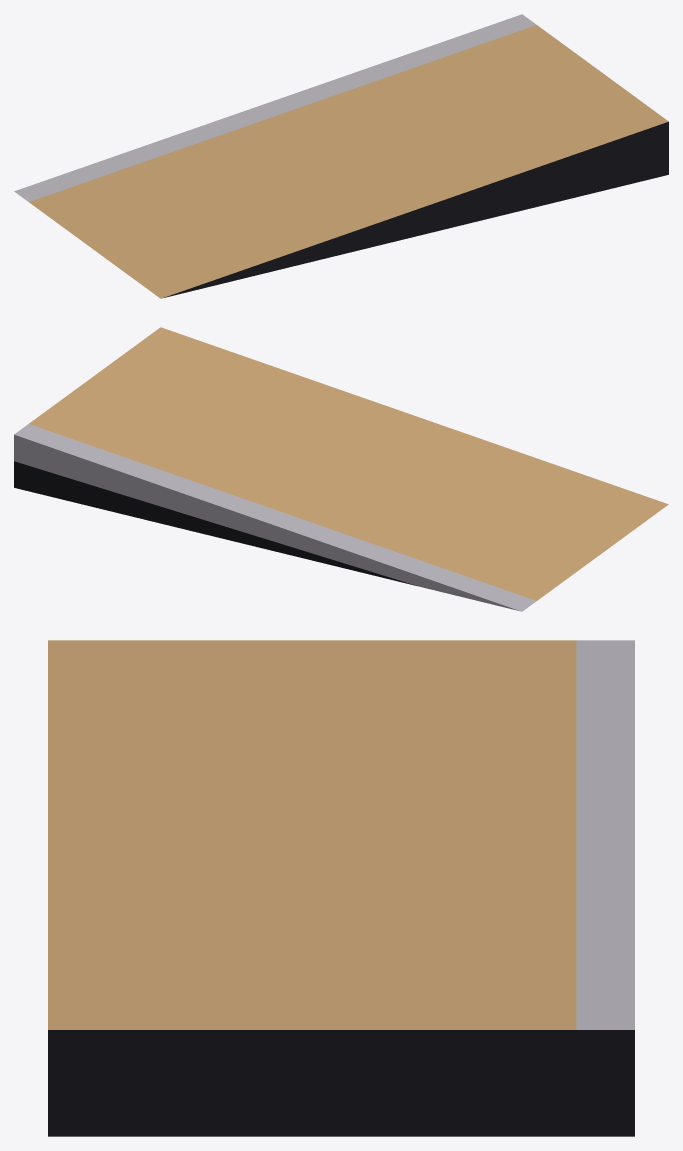
File: Ramp_Half_1_Left.fbx
3 views of the same model, one above another, from view 1: azimuth 30°, elevation 25°; view 2: azimuth 150°, elevation 25°; view 3: azimuth 270°, elevation 25° (orthographic). The views are drawn at different scales.
Visible parts, largest first — view 1: Ramp_Half_1_Left; view 2: Ramp_Half_1_Left; view 3: Ramp_Half_1_Left.
Boxes of the visible parts, <box> form: Ramp_Half_1_Left: <box>14,14,668,298</box>; Ramp_Half_1_Left: <box>14,327,668,611</box>; Ramp_Half_1_Left: <box>48,640,634,1136</box>.
Size of the model in its own units: 10 by 1 by 5.
